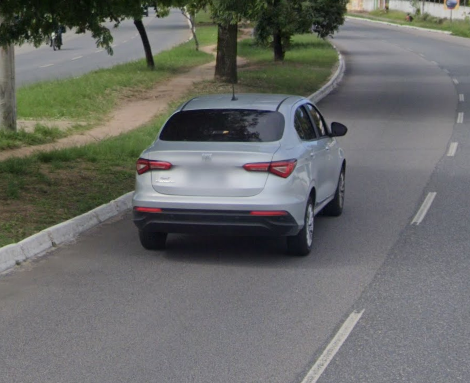car: (127, 76, 355, 261)
